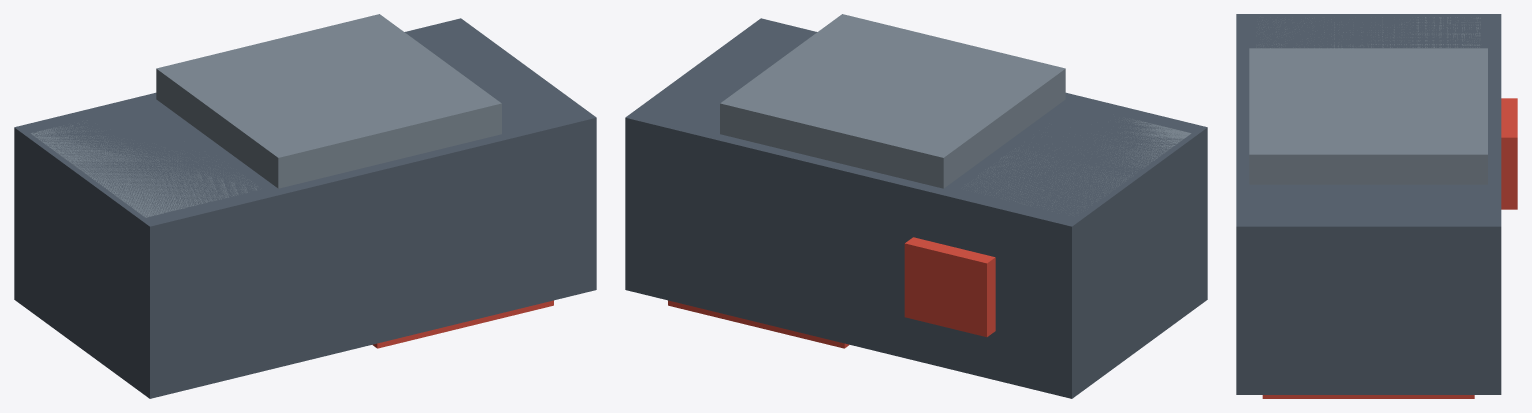
The picture shows the model from 3 angles, left to right: view 1: azimuth 30°, elevation 25°; view 2: azimuth 150°, elevation 25°; view 3: azimuth 270°, elevation 25°; orthographic projection. The views are drawn at different scales.
Visible parts, largest first — view 1: GEO_module_front_shell_02_LOD0; view 2: GEO_module_front_shell_02_LOD0; view 3: GEO_module_front_shell_02_LOD0.
Boxes of the visible parts, box(x1,y1,x2,y2) form: GEO_module_front_shell_02_LOD0: box(14, 14, 596, 398); GEO_module_front_shell_02_LOD0: box(625, 14, 1207, 398); GEO_module_front_shell_02_LOD0: box(1236, 14, 1517, 398).
Size of the model in its own units: 0.076 by 0.036 by 0.0425.
